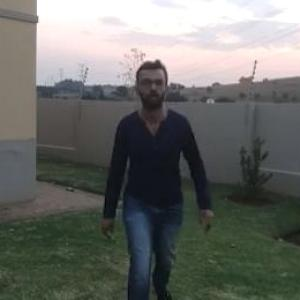follow: (108, 52, 198, 299)
